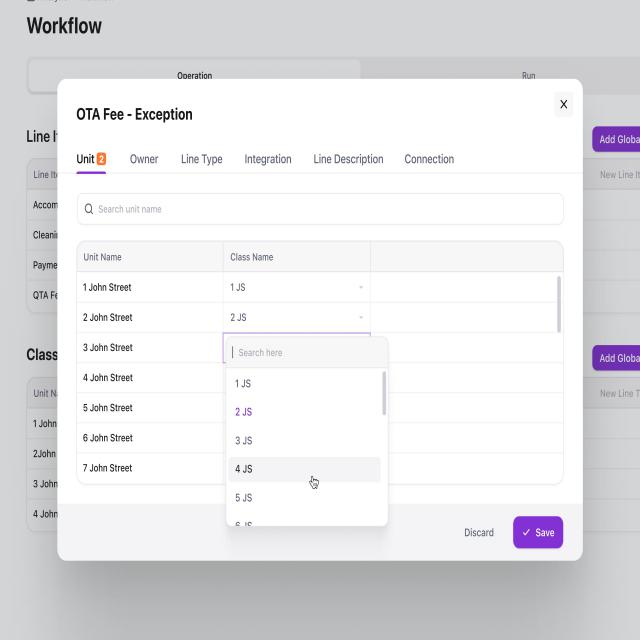button: (514, 516, 564, 548), (556, 92, 574, 116)
